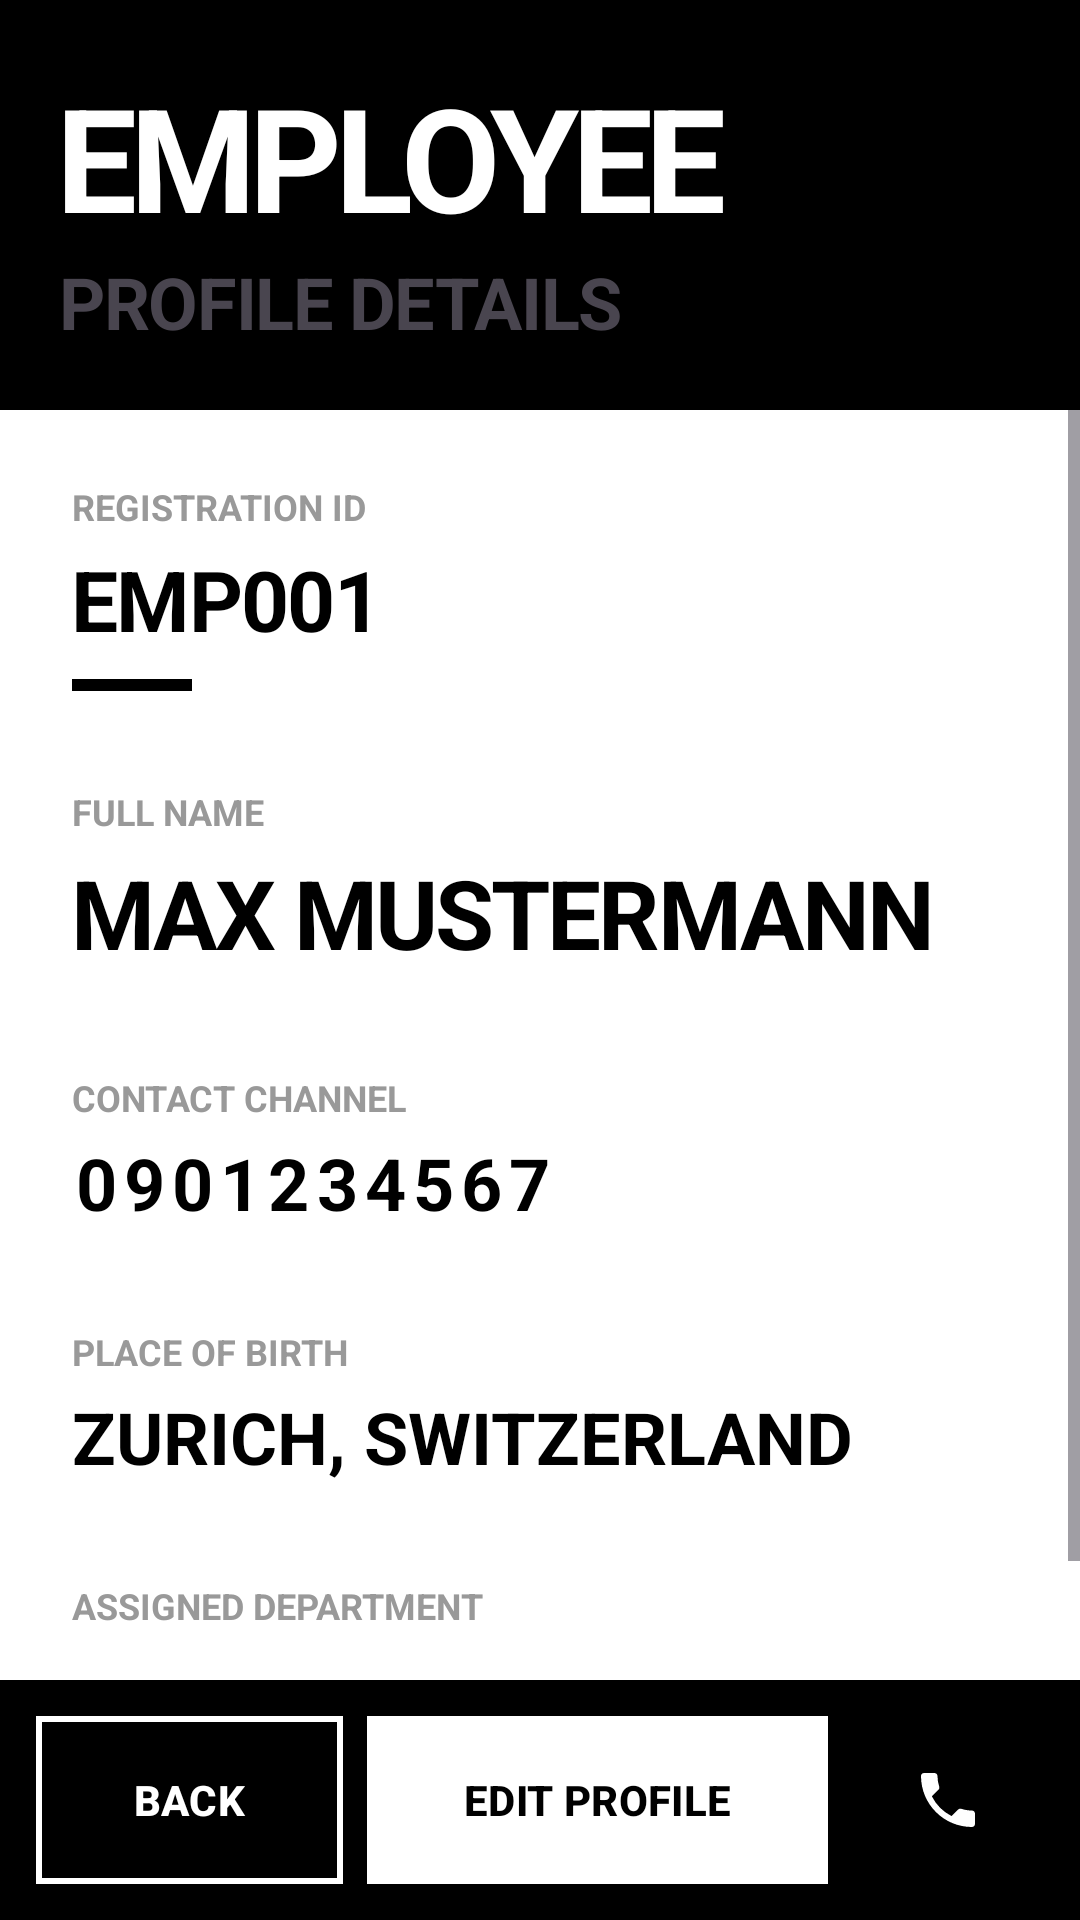

Screen size 1080*1920. Icon name, then its center in pixels as [x,y]:
call swiss: [948,1800]
